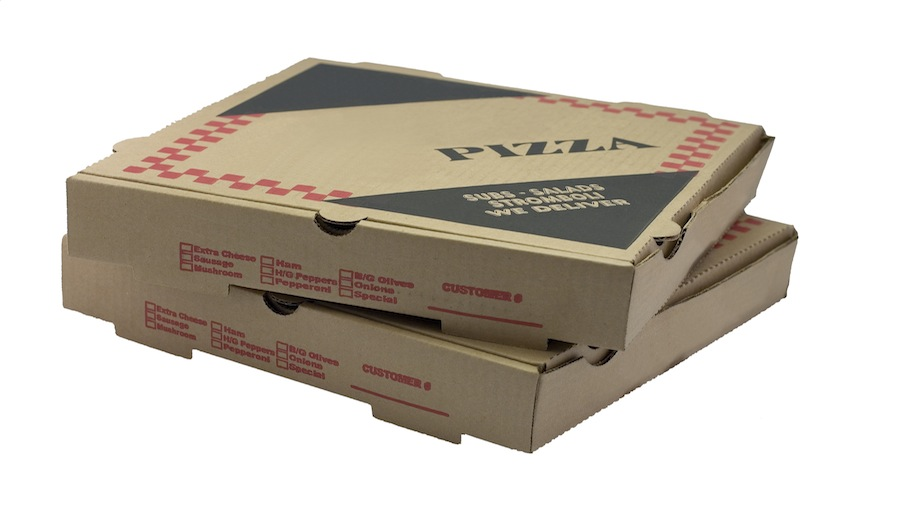Rec_Paper: (25, 29, 821, 432)
